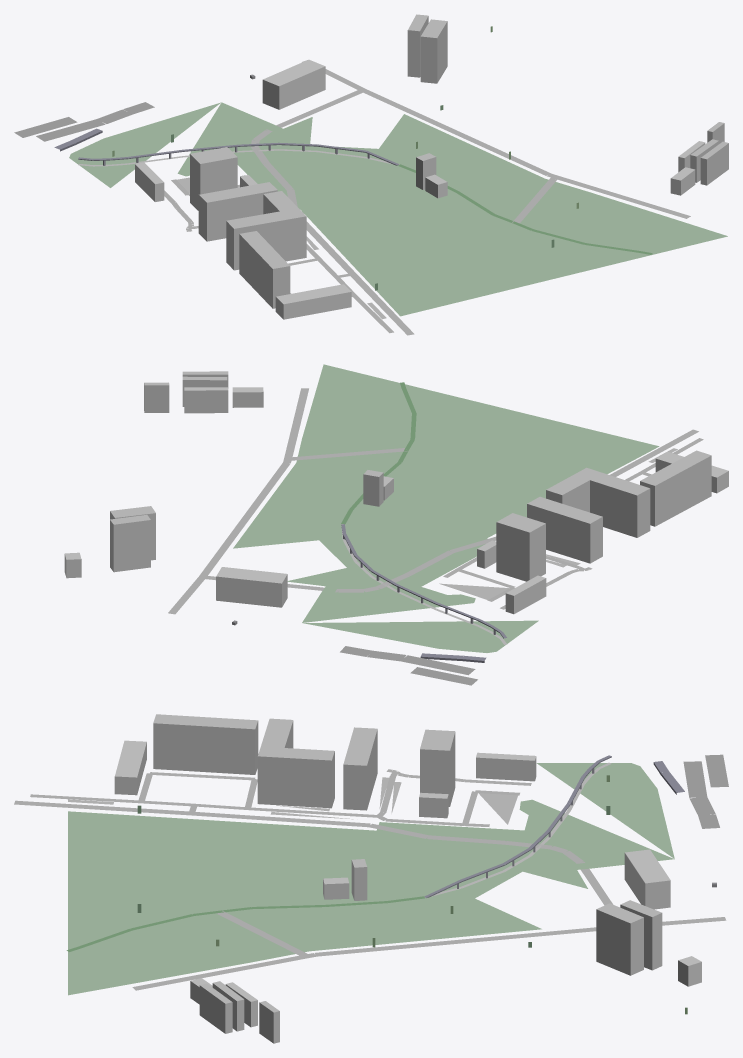
3 views of the same model, one above another, from view 1: azimuth 30°, elevation 25°; view 2: azimuth 150°, elevation 25°; view 3: azimuth 270°, elevation 25° (orthographic). The views are drawn at different scales.
Size of the model in its own units: 525 by 50.13 by 549.
